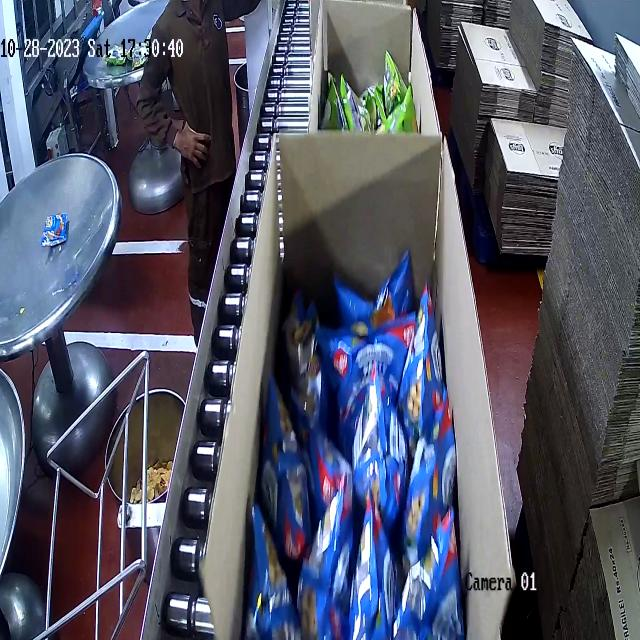PAPRIKA: (261, 283, 458, 640)
YOGURT_HERB: (324, 49, 419, 133)
